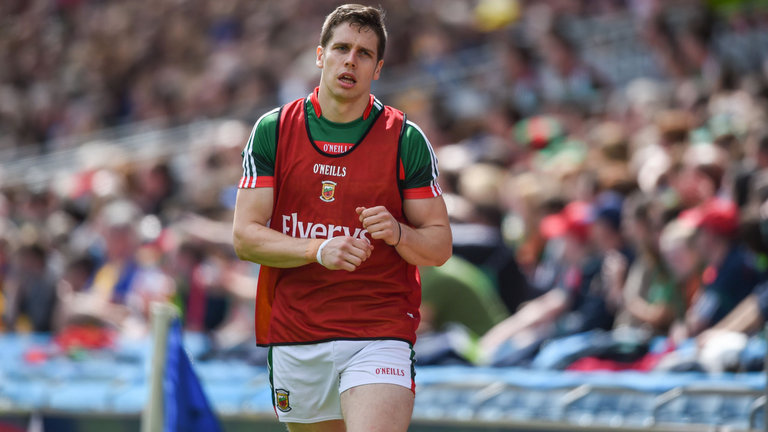player: (235, 2, 458, 415)
